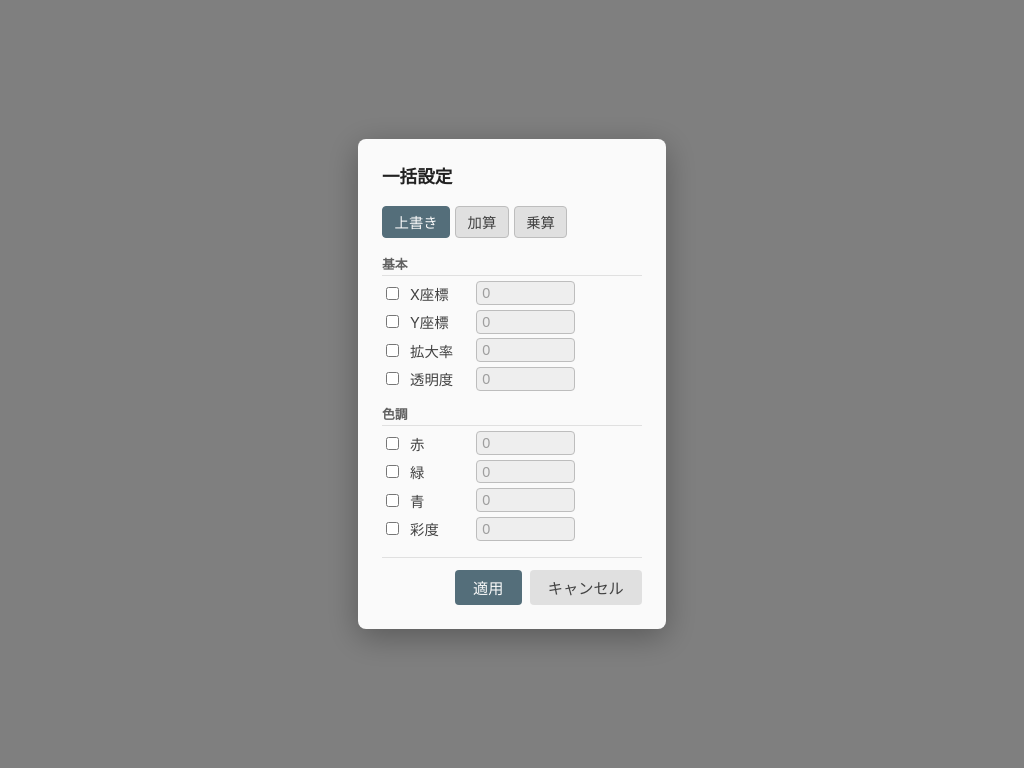
Test case: BulkConfigDialog › 乗算に切り替えると入力値が全て 1 になる
The width and height of the screenshot is (1024, 768).
Click the button "乗算". click: x=540, y=222
box: [514,206,567,238]
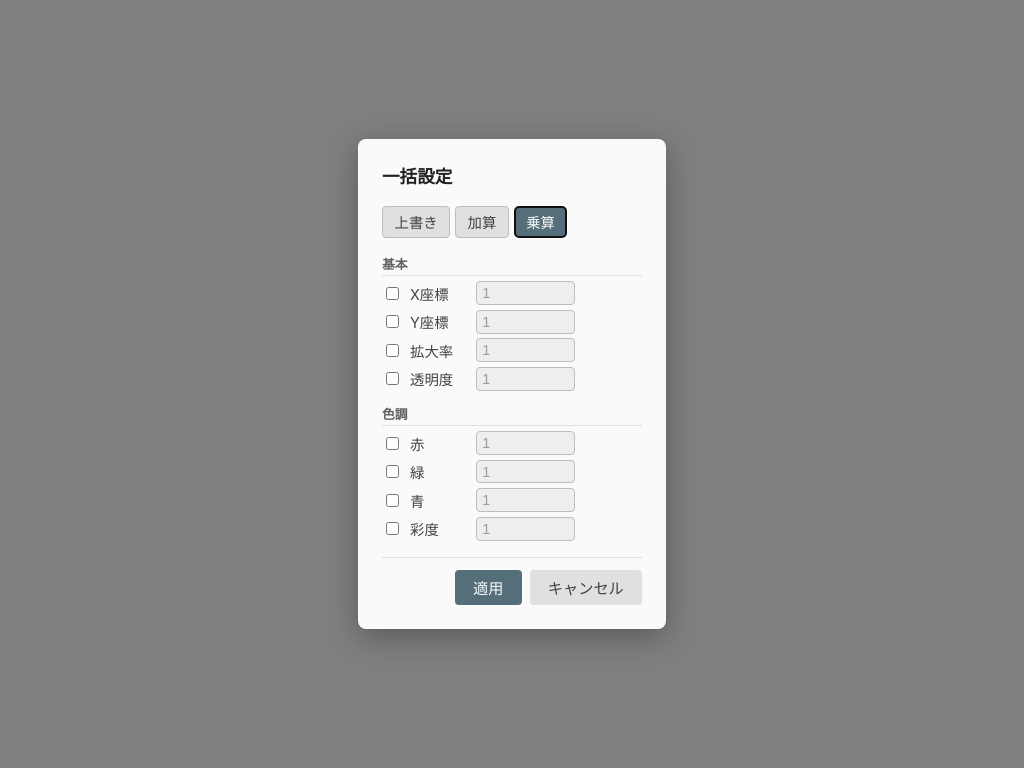
Now the number field next to "X座標" holds "1", box [476,281,576,305]
Now the number field next to "Y座標" holds "1", box [476,310,576,334]
Now the number field next to "拡大率" holds "1", box [476,338,576,362]
